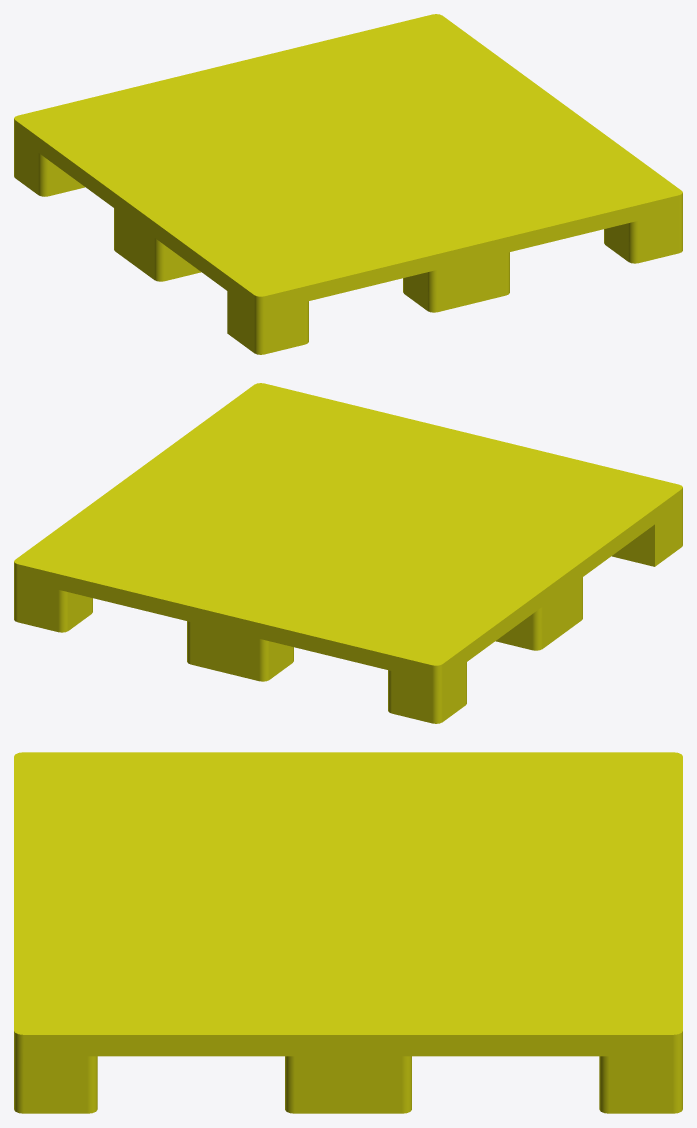
The model's file is pallet.glb.
3 views of the same model, one above another, from view 1: azimuth 30°, elevation 25°; view 2: azimuth 150°, elevation 25°; view 3: azimuth 270°, elevation 25° (orthographic). The views are drawn at different scales.
Visible parts, largest first — view 1: 實體1; view 2: 實體1; view 3: 實體1.
Part boxes in pixels (box(x1,y1,x2,y2)): 實體1: box(14, 14, 682, 354); 實體1: box(14, 383, 682, 723); 實體1: box(14, 752, 682, 1113).
Bounding box in the file's own units: 1 × 0.13 × 1.
